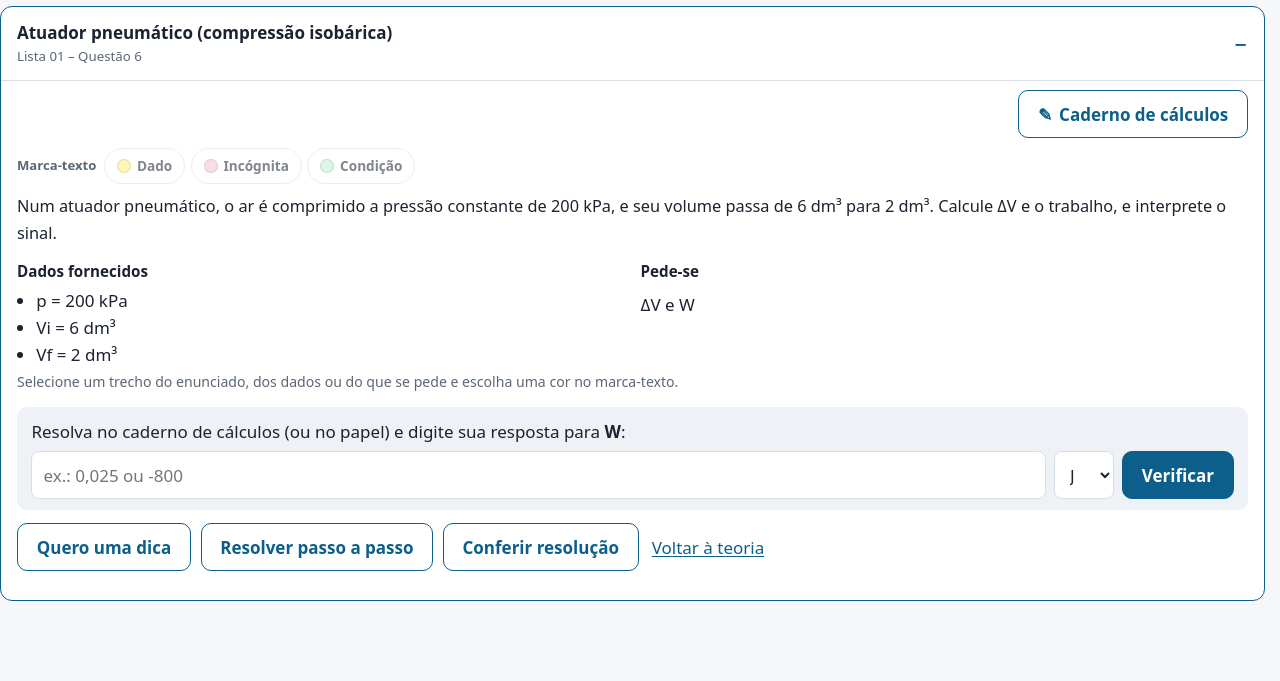
Test: exercício numérico › roteiro guiado revela um passo de cada vez
Click the button "Resolver passo a passo" at (317, 547), box [200,523,433,571]
(page scrolled)
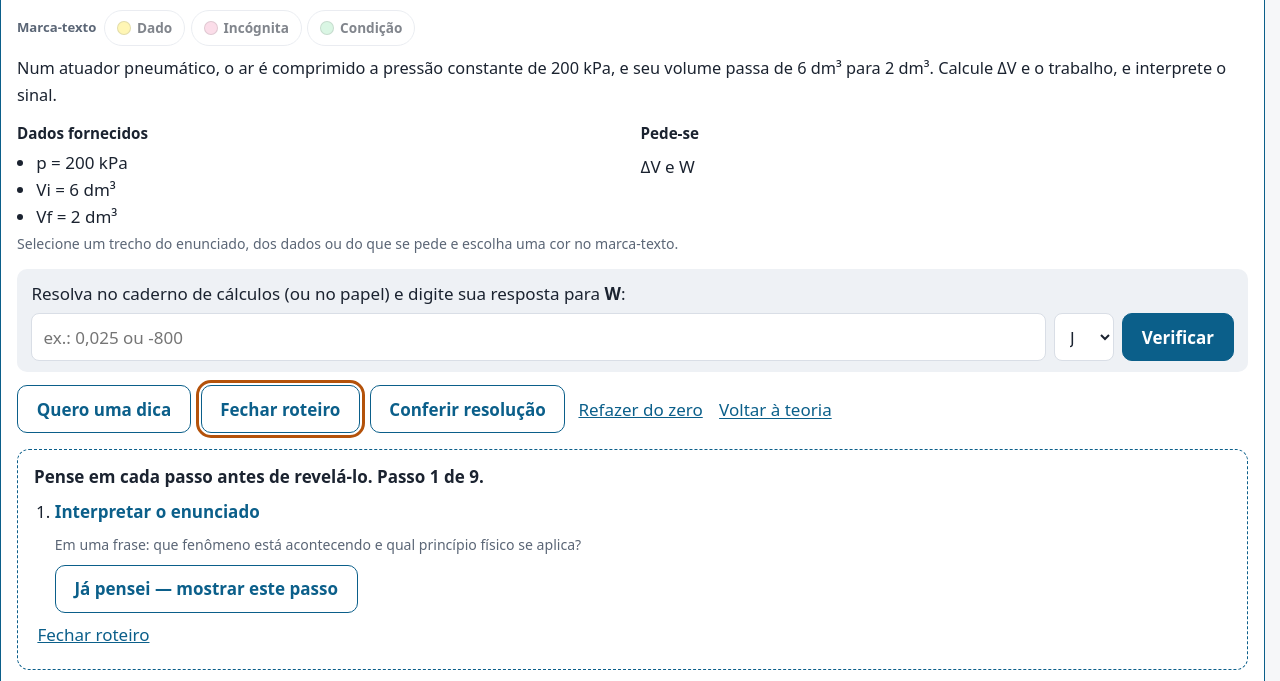
Result: the text "Pense em cada passo antes de revelá-lo. Passo 1 de 9." is shown at [34,465,484,488]
Click the button "Já pensei — mostrar este passo" at (206, 589), box [55,565,358,613]
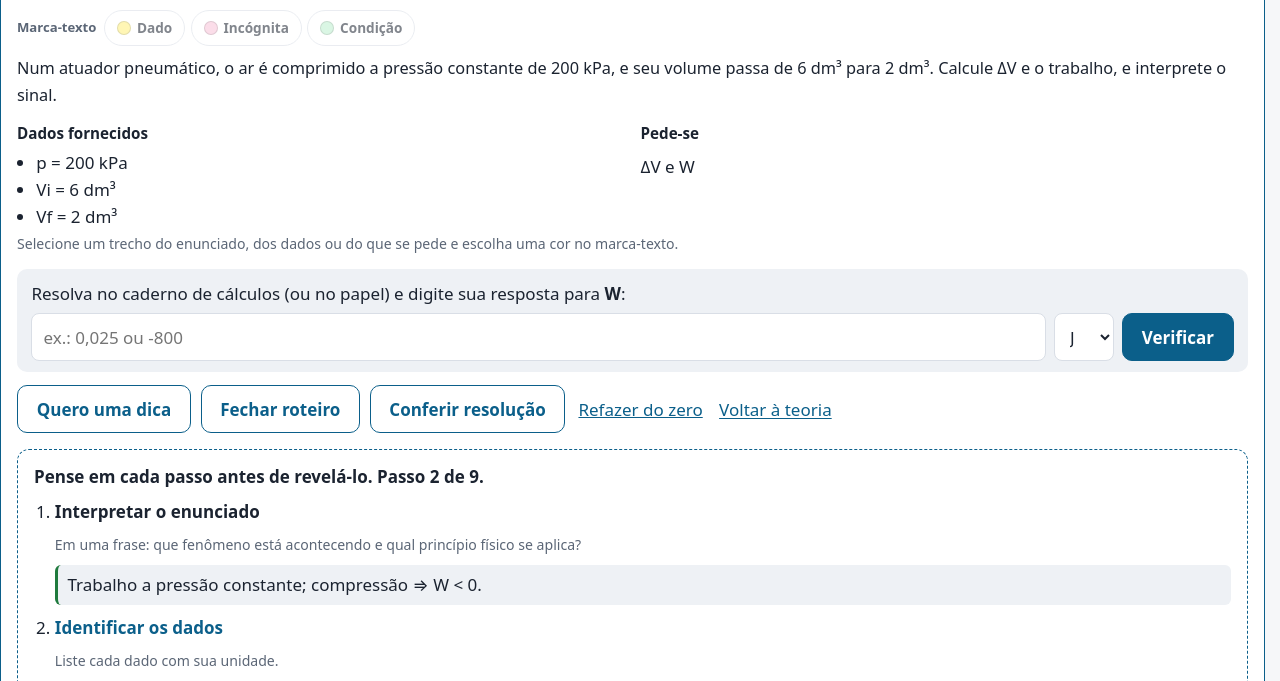
Result: the text "Pense em cada passo antes de revelá-lo. Passo 2 de 9." is shown at [34,465,484,488]
